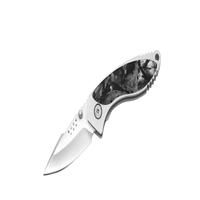knife: (42, 43, 162, 181)
